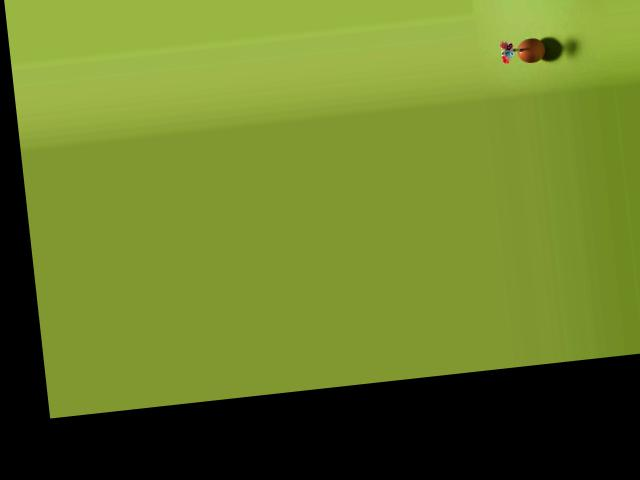egg: (516, 36, 546, 63)
